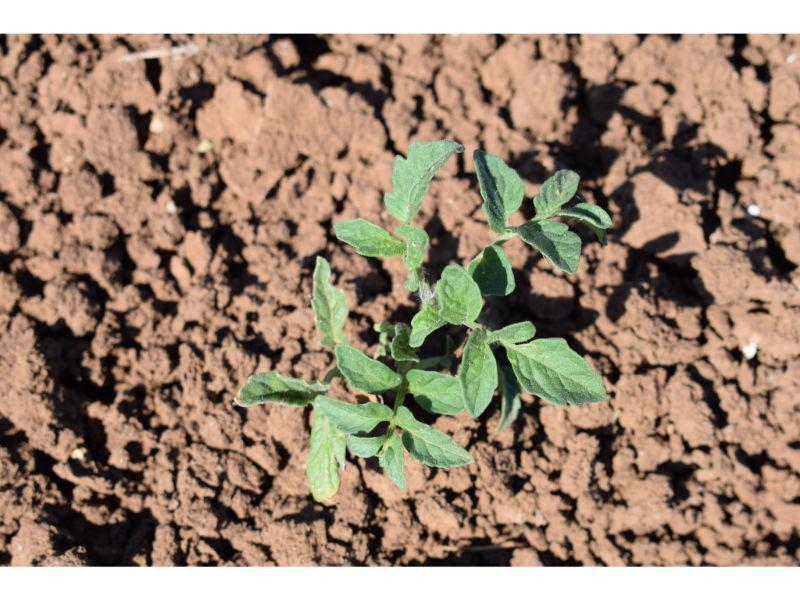tomato: (235, 137, 612, 504)
